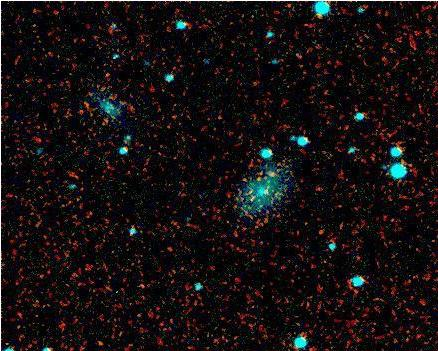star: (256, 158, 286, 188)
